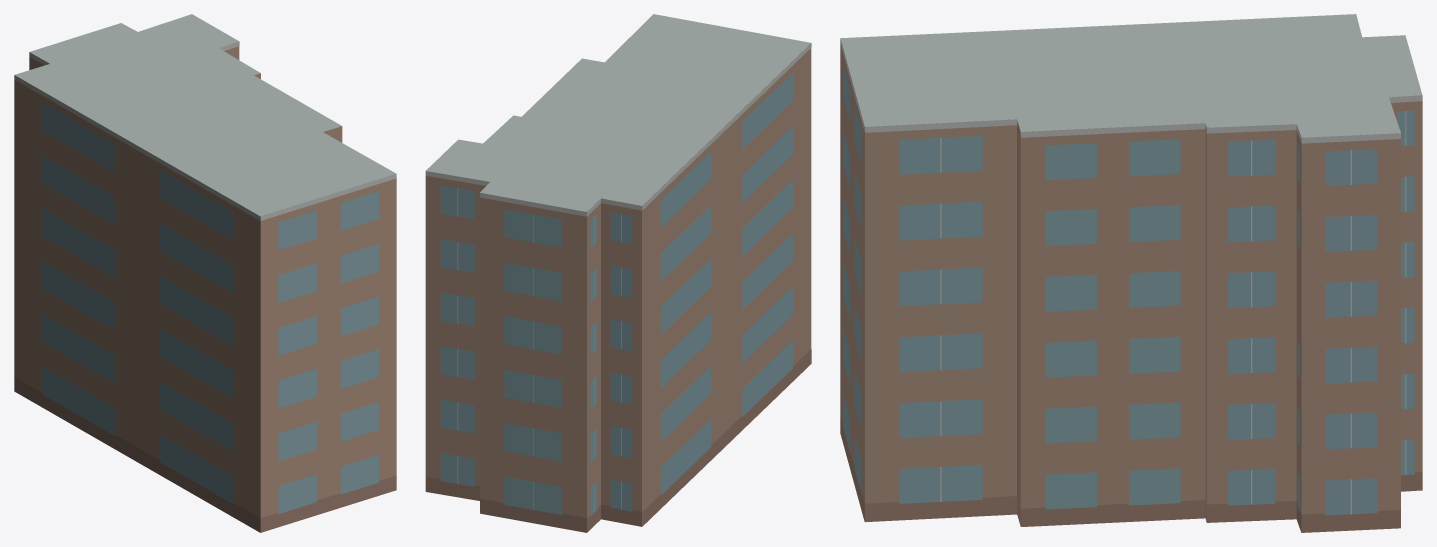
File: survey-upis-32699093.glb
3 views of the same model, side by side, from view 1: azimuth 30°, elevation 25°; view 2: azimuth 150°, elevation 25°; view 3: azimuth 270°, elevation 25° (orthographic). The views are drawn at different scales.
Visible parts, largest first — view 1: survey-upis-32699093.tmp; view 2: survey-upis-32699093.tmp; view 3: survey-upis-32699093.tmp.
Part boxes in pixels (x1,y1,x2,y2): survey-upis-32699093.tmp: (14,14,396,532); survey-upis-32699093.tmp: (425,14,811,532); survey-upis-32699093.tmp: (840,14,1422,532).
Bounding box in the file's own units: 11.17 × 16.6 × 22.18.
